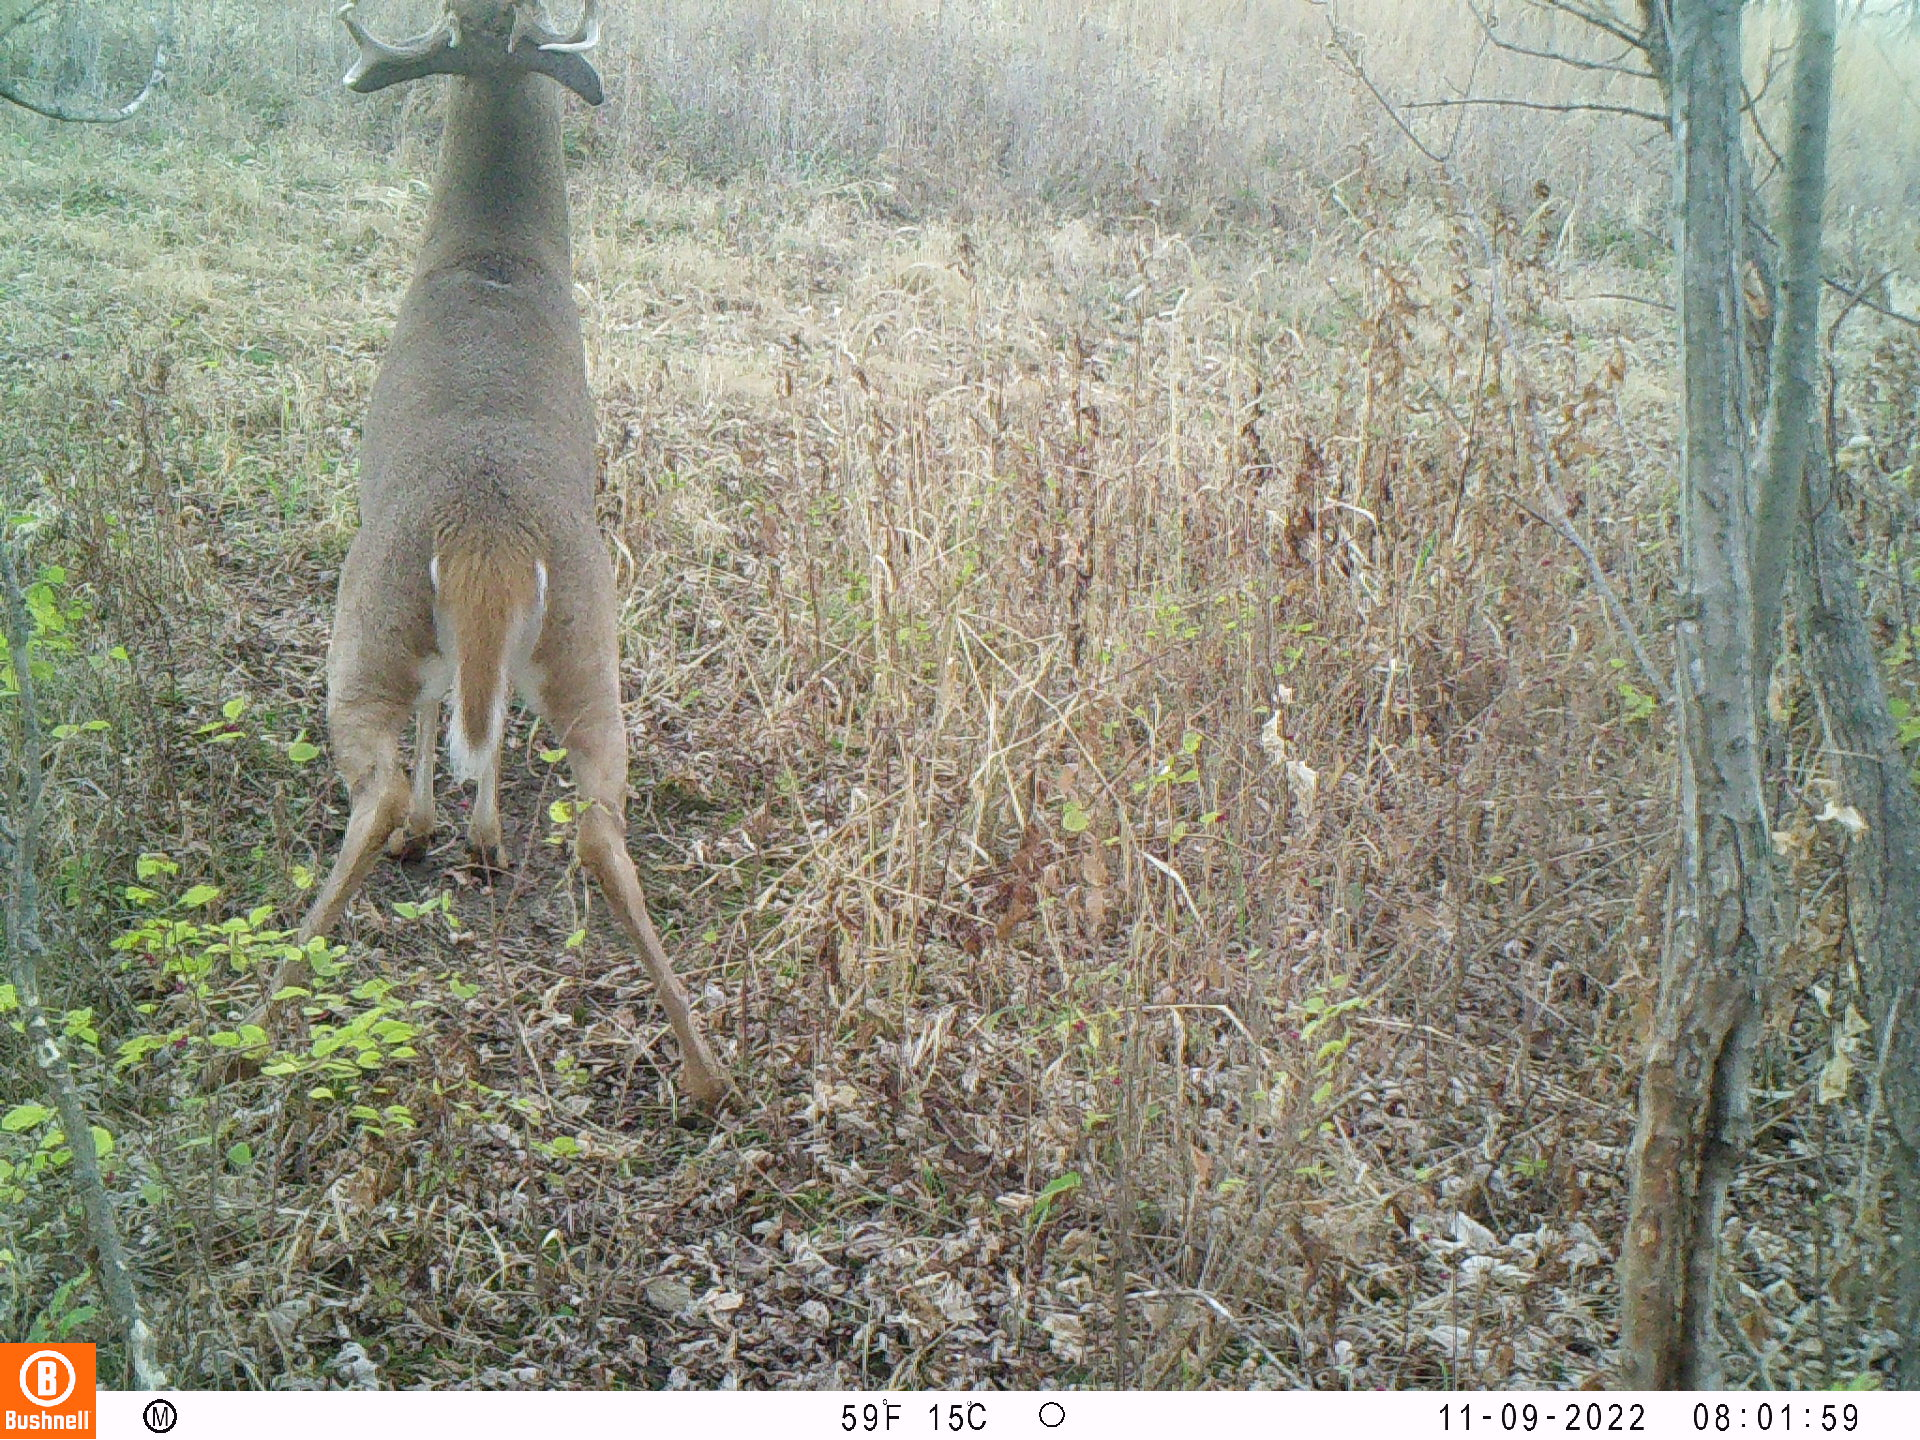DeerBuck: (301, 2, 740, 1100)
DeerBuckHead: (340, 1, 607, 111)
